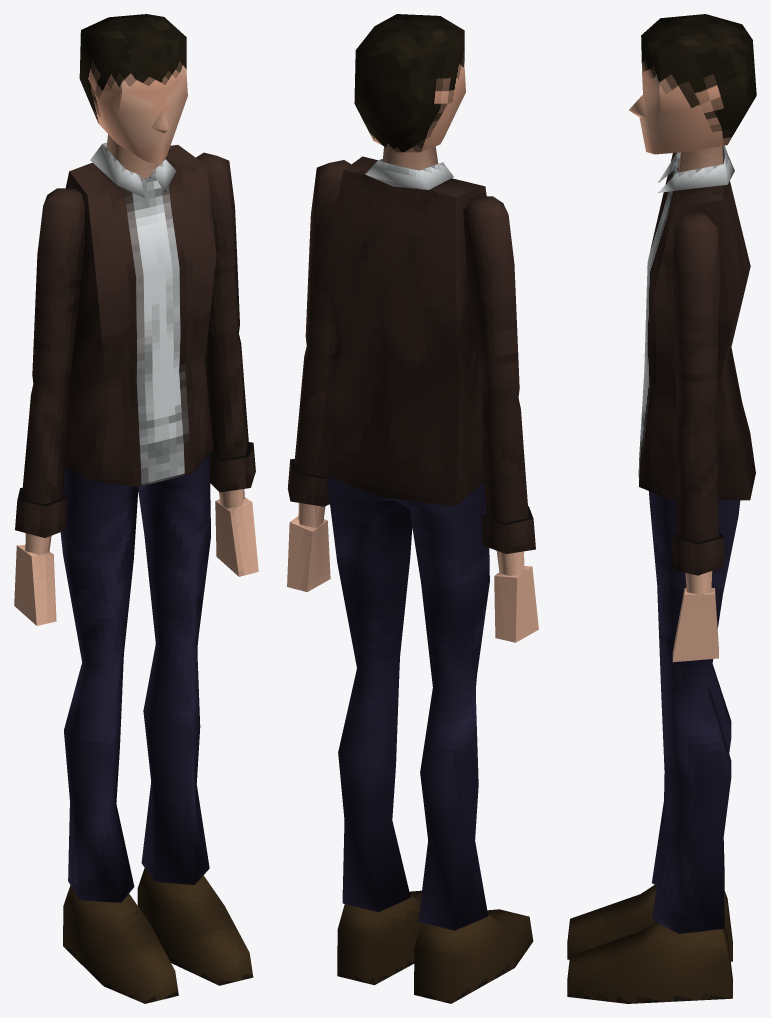
Rendered from Humman UnityModel.fbx.
3 views of the same model, side by side, from view 1: azimuth 30°, elevation 25°; view 2: azimuth 150°, elevation 25°; view 3: azimuth 270°, elevation 25° (orthographic). The views are drawn at different scales.
Visible parts, largest first — view 1: Human; view 2: Human; view 3: Human.
Boxes of the visible parts, box(x1,y1,x2,y2) form: Human: box(14, 14, 258, 1003); Human: box(287, 14, 538, 1003); Human: box(567, 14, 756, 1003).
Bounding box in the file's own units: 216 × 790 × 143.
